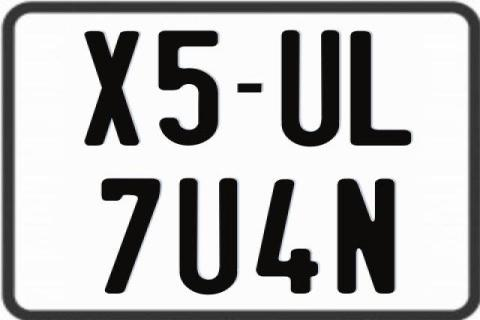0: (255, 177, 321, 292), (98, 178, 162, 294), (155, 29, 216, 145)
L: (348, 29, 411, 143)
N: (337, 177, 396, 296)
U: (281, 28, 341, 148), (176, 176, 236, 296)
X: (84, 29, 143, 148)
